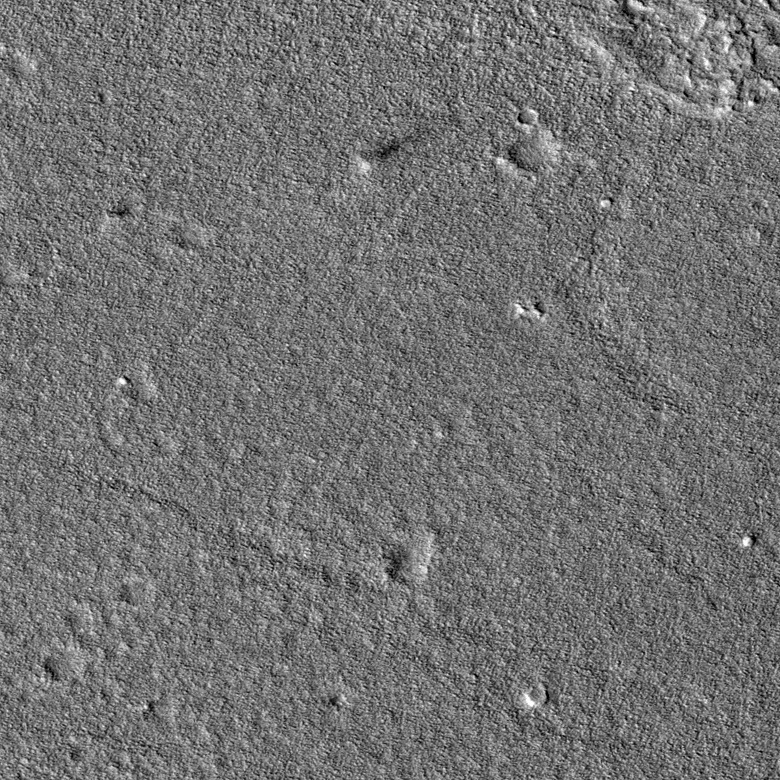dust_devil: (353, 131, 411, 174)
